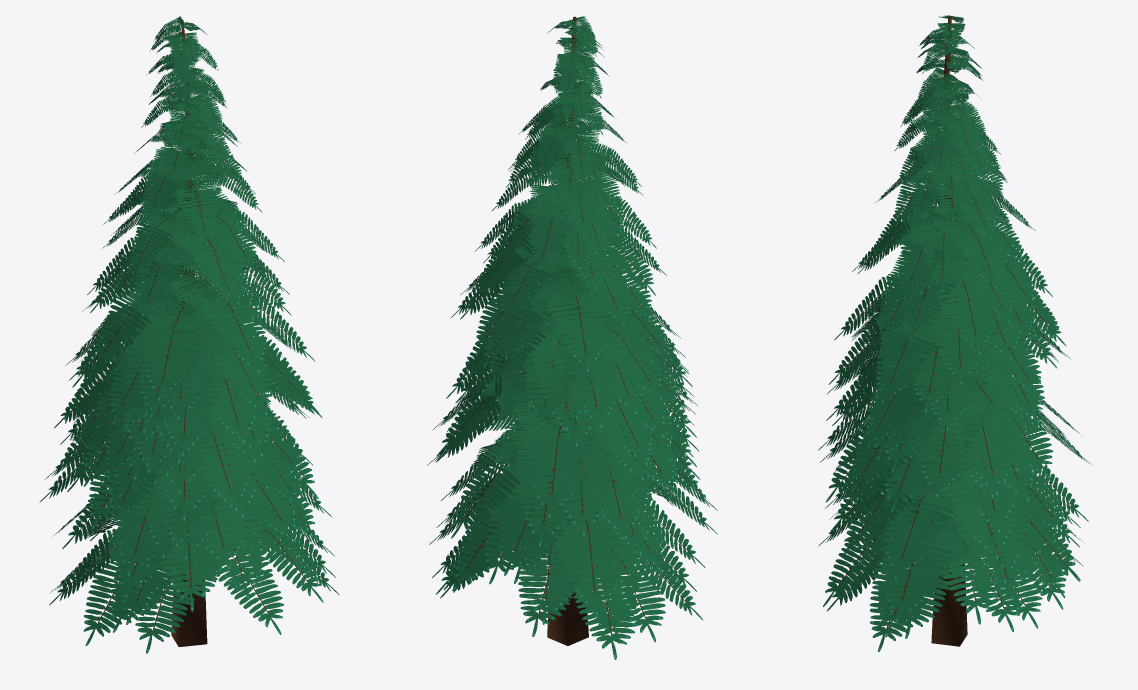
The model's file is pine_bentleaves_LOD0.fbx.
The picture shows the model from 3 angles, left to right: view 1: azimuth 30°, elevation 25°; view 2: azimuth 150°, elevation 25°; view 3: azimuth 270°, elevation 25°; orthographic projection.
Parts seen in each view (by area): view 1: Pine_BentLeaves; view 2: Pine_BentLeaves; view 3: Pine_BentLeaves.
Part boxes in pixels (x1,y1,x2,y2): Pine_BentLeaves: (39, 16, 339, 653); Pine_BentLeaves: (427, 16, 717, 659); Pine_BentLeaves: (818, 15, 1091, 651).
Bounding box in the file's own units: 367 × 710 × 363.
Materials: 2 (1 with a texture image).
